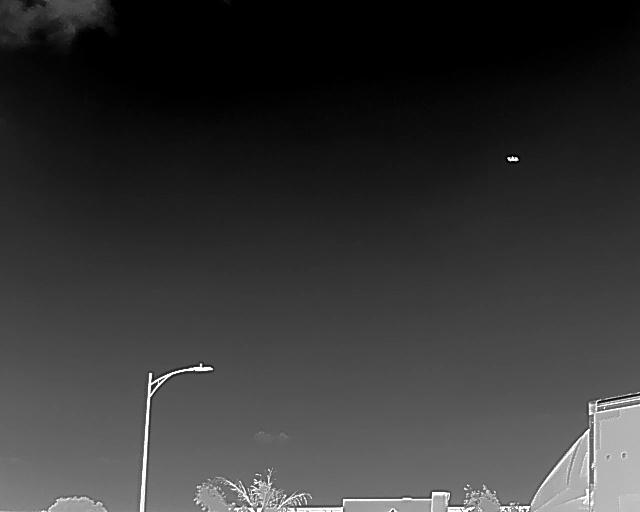fpv-drone: (505, 154, 519, 163)
